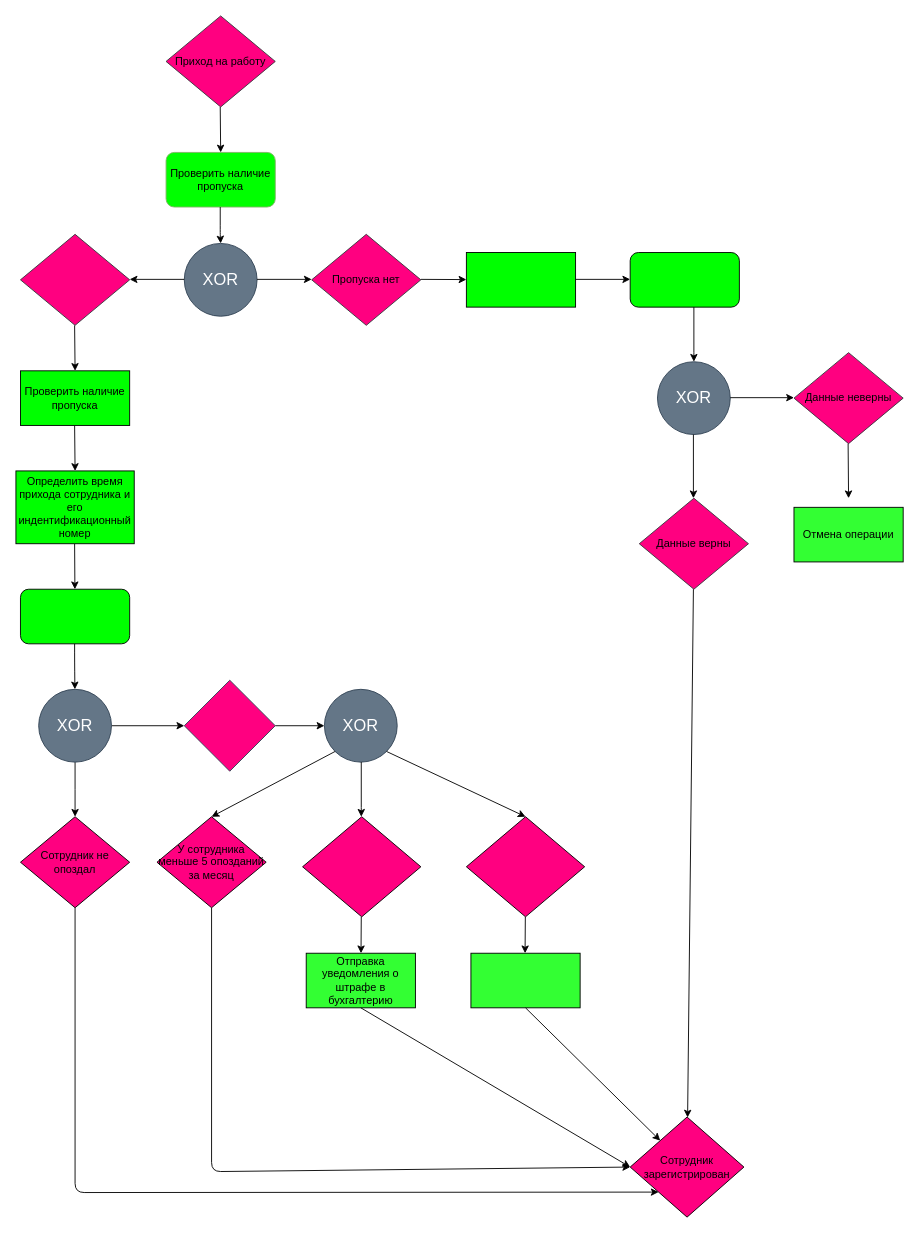
Image size: 919x1233. Some labels were removed from this diagram. The centre of each missing label's shape, as x and y in pixels:
Обращение в службу охраны: point (520, 279)
Отправка уведомления в отдел кадров: point (525, 980)
Проверить свои ли данные вводит сотрудник: point (684, 279)
Проверить факт опоздания: point (75, 616)
Пропуск есть: point (75, 279)
Сотрудник опоздал: point (229, 725)
У сотрудника больше 10 опозданий за месяц: point (525, 866)
У сотрудника больше 5, но меньше 10 опозданий за месяц: point (361, 866)
